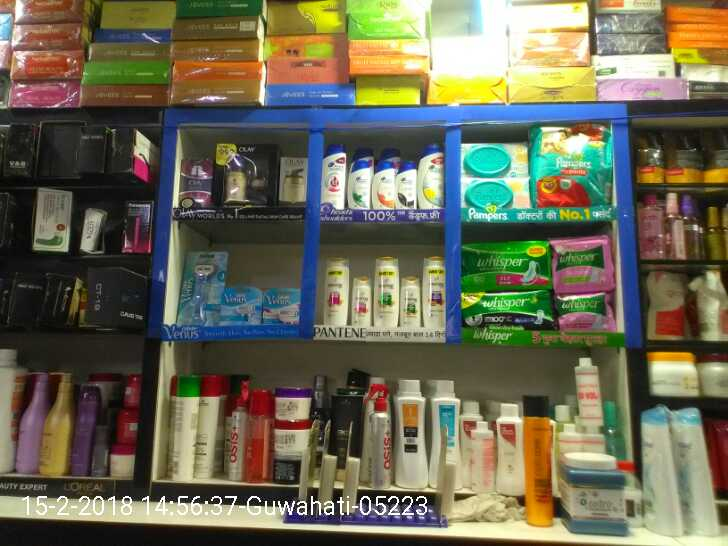venus: (179, 253, 224, 323), (261, 286, 300, 324), (224, 291, 261, 324)
